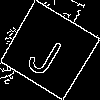J: (24, 25, 70, 79)
